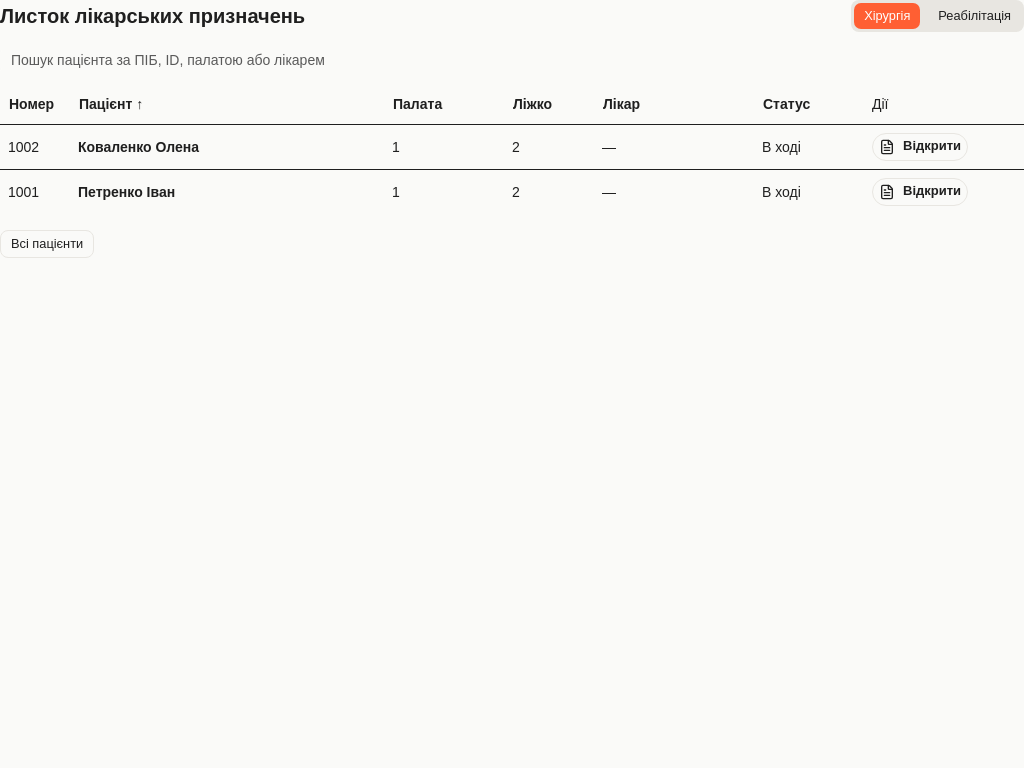
Scenario: PrescriptionPage › shows an error message when creation fails
Note: open the drawer for the first patient, then create from inside it
Click the button "Відкрити" in the row of "1002" at (920, 146), box [872,132,968,160]
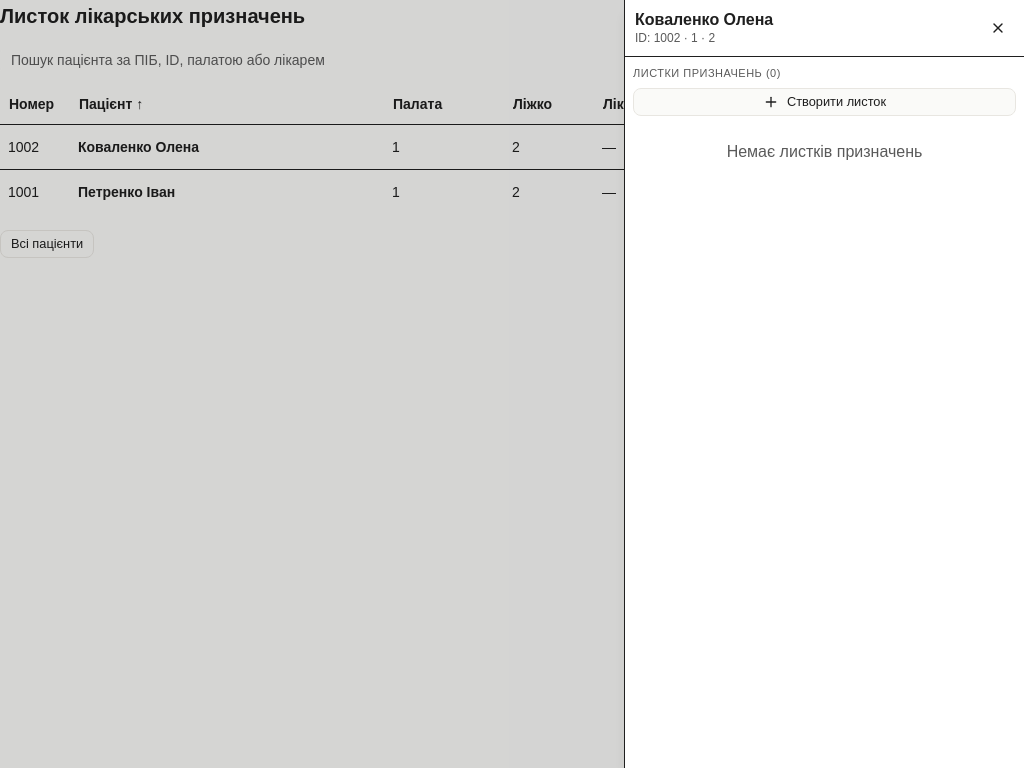
Click the button "Створити листок" at (824, 102), box [633,88,1016,116]
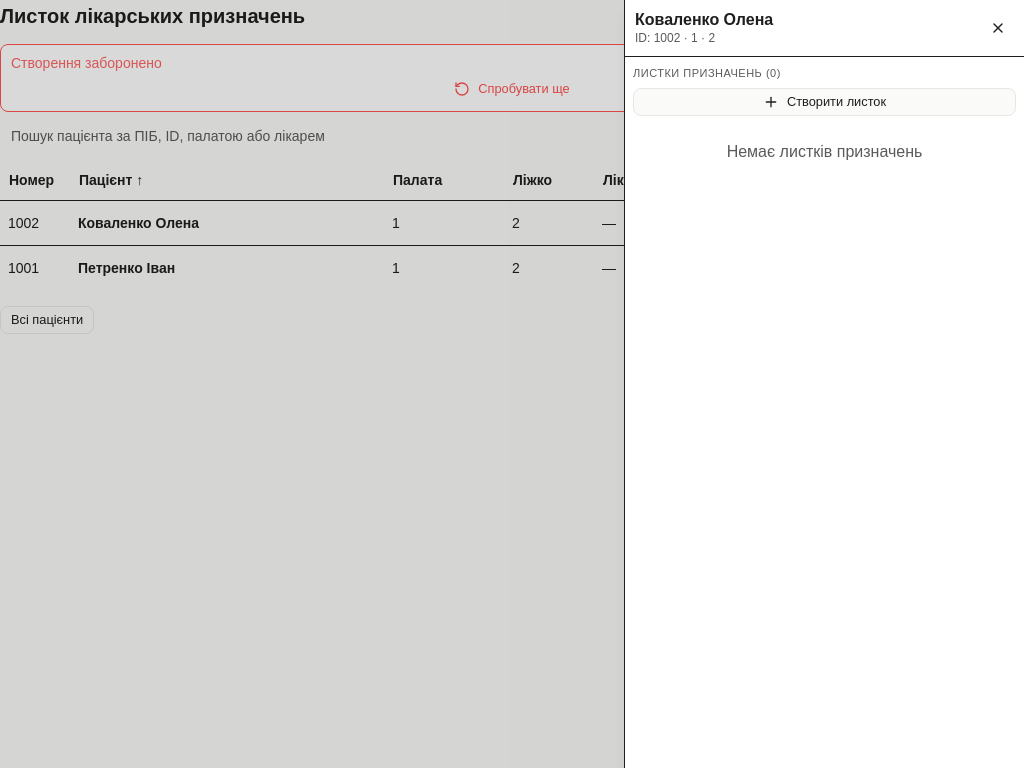
Now the text "Створення заборонено" is shown, box [11,55,162,71]
